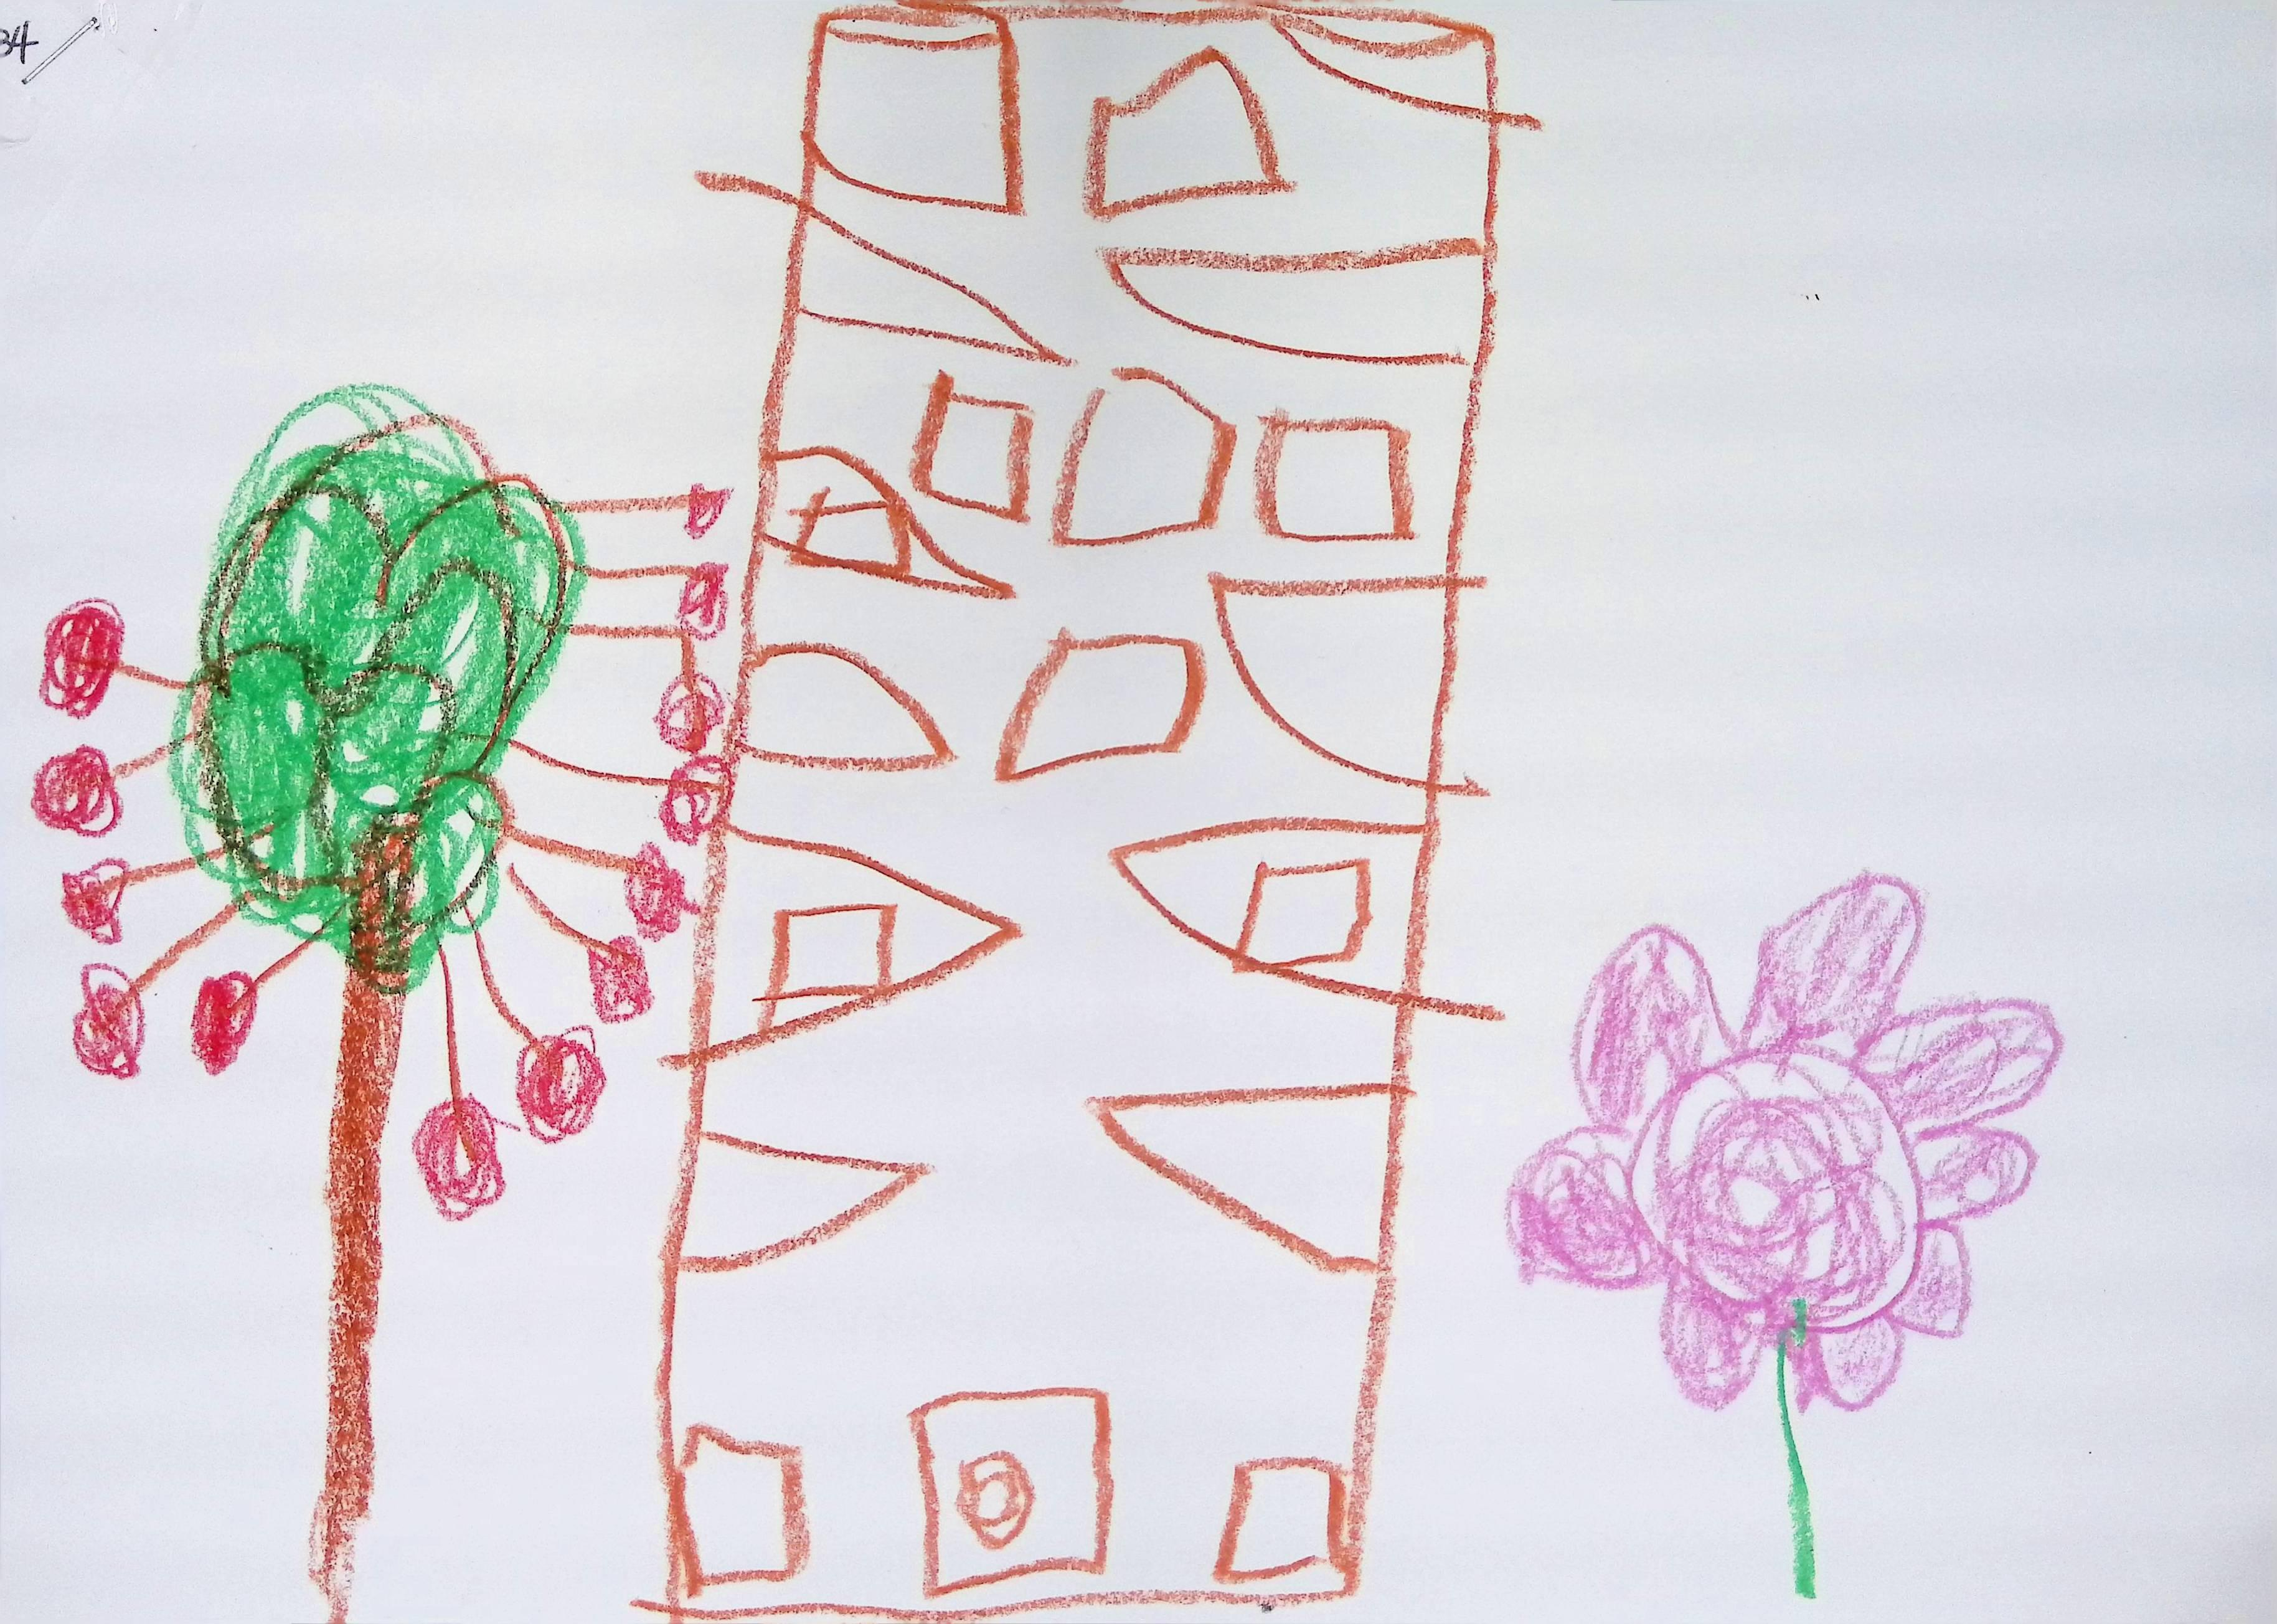door: (910, 1390, 1112, 1598)
house: (657, 4, 1522, 1617)
wall: (655, 4, 1525, 1617)
window: (1086, 44, 1291, 216), (996, 626, 1205, 780), (1054, 366, 1235, 543), (998, 631, 1202, 779), (678, 1425, 808, 1594), (1256, 408, 1414, 540), (910, 371, 1033, 518), (1214, 1459, 1348, 1585), (757, 902, 896, 1021), (1240, 858, 1370, 965)
